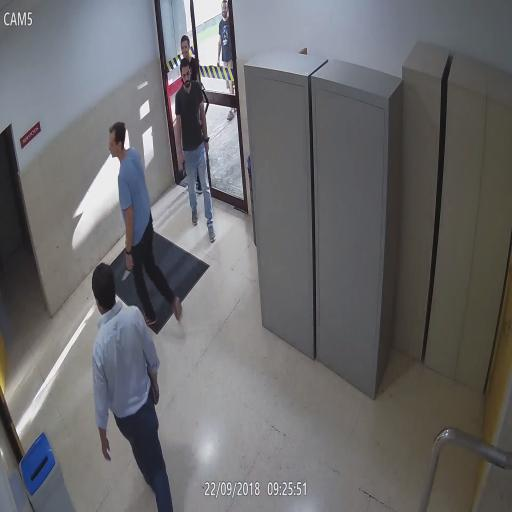Handgun: (147, 367, 157, 405), (178, 151, 186, 177)
